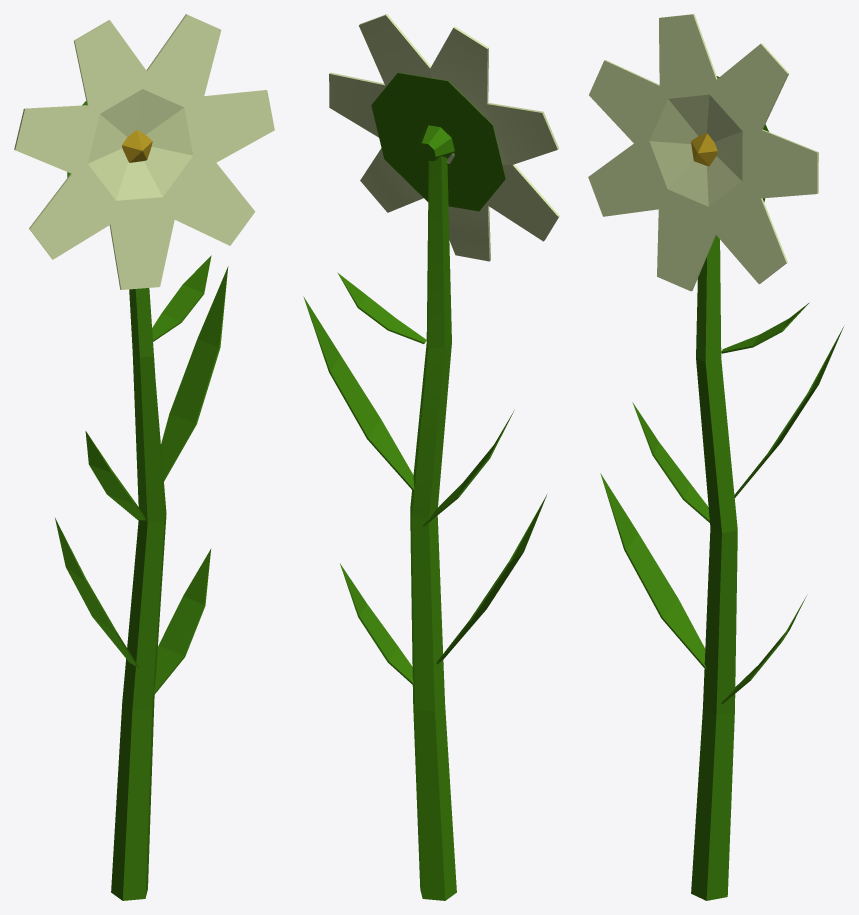
The model's file is Flower_a_03.fbx.
The picture shows the model from 3 angles, left to right: view 1: azimuth 30°, elevation 25°; view 2: azimuth 150°, elevation 25°; view 3: azimuth 330°, elevation 25°; orthographic projection.
Parts seen in each view (by area): view 1: Flower_a_03_LOD0; view 2: Flower_a_03_LOD0; view 3: Flower_a_03_LOD0.
Part boxes in pixels (bbox=[...]): Flower_a_03_LOD0: bbox=[14, 14, 274, 900]; Flower_a_03_LOD0: bbox=[303, 14, 559, 900]; Flower_a_03_LOD0: bbox=[588, 14, 844, 900].
Size of what is drawn, in the model's own units: 2.98 by 10.18 by 0.9725.
